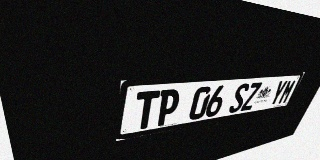0: (187, 86, 213, 121)
6: (204, 85, 228, 118)
M: (277, 79, 297, 105)
P: (155, 89, 181, 127)
S: (227, 83, 251, 114)
T: (133, 90, 160, 131)
Y: (268, 80, 288, 106)
Z: (240, 82, 262, 111)
